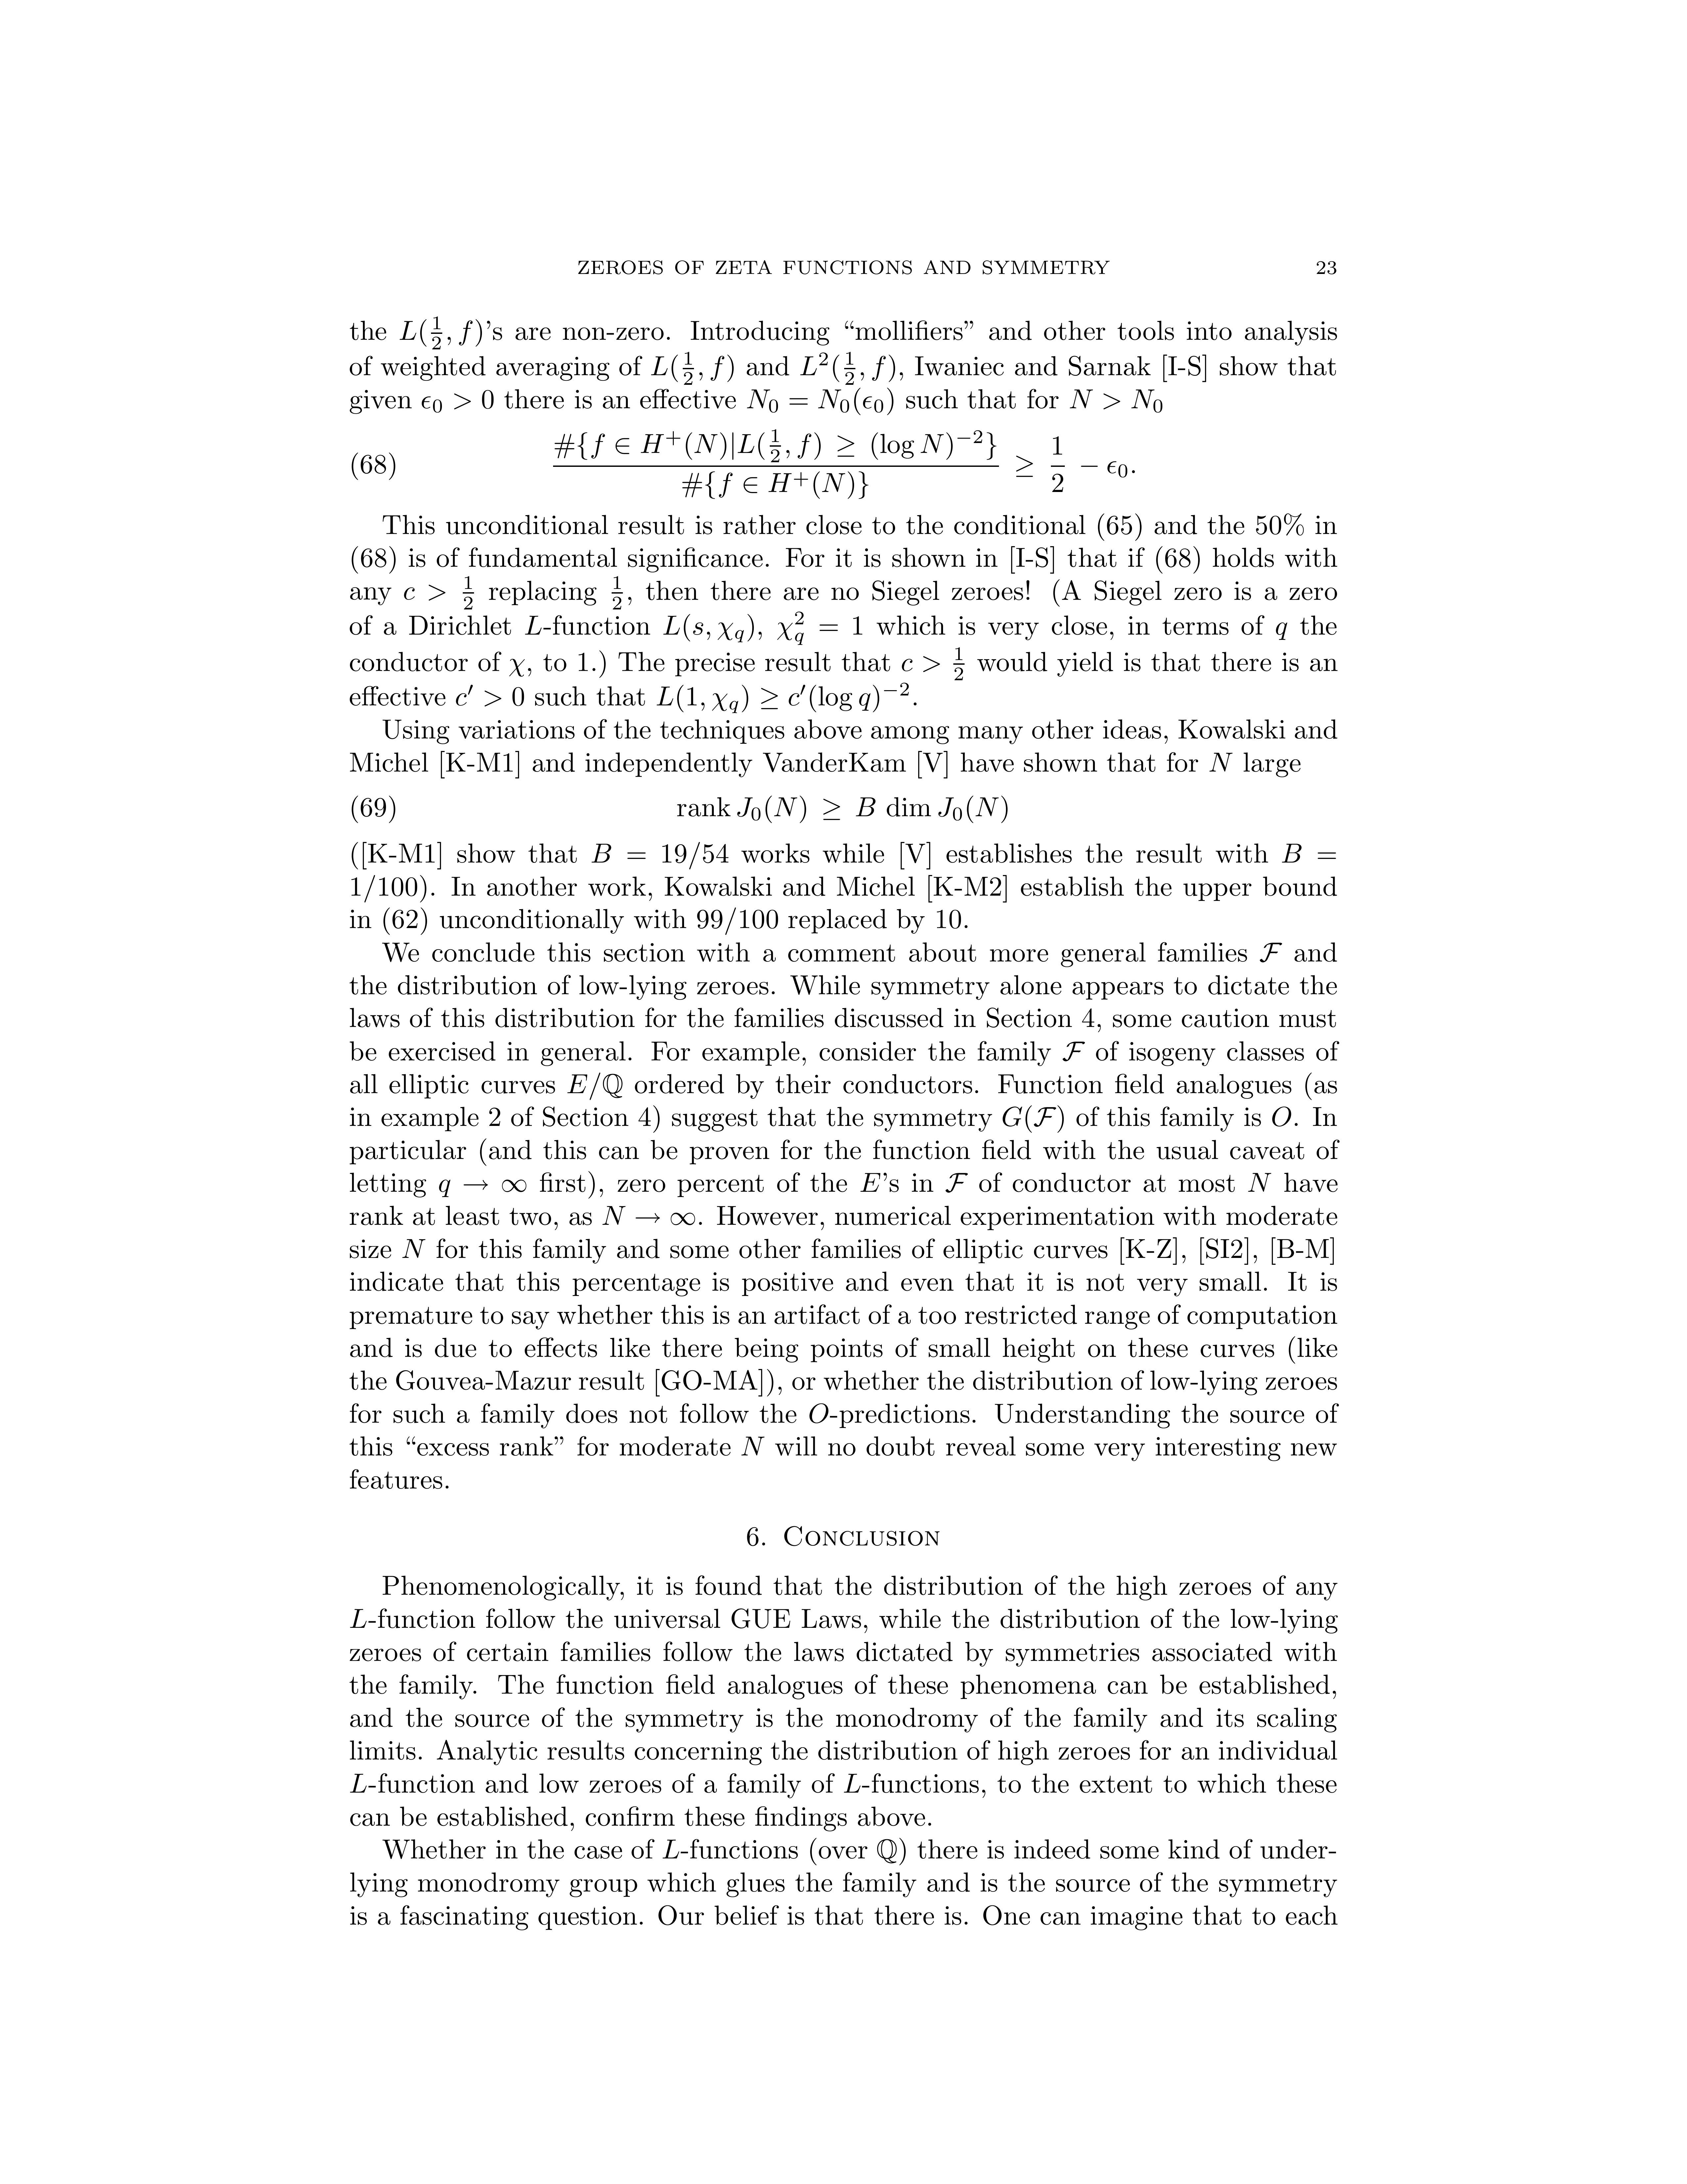maths: (553, 429, 1127, 498), (677, 796, 1007, 823), (657, 682, 909, 713), (746, 388, 893, 415), (801, 351, 895, 385), (663, 613, 762, 642), (399, 316, 482, 349), (650, 351, 734, 385), (778, 612, 861, 645), (404, 576, 473, 610), (1070, 390, 1162, 413), (902, 647, 964, 681), (602, 1205, 695, 1225), (422, 390, 493, 413), (1003, 1106, 1063, 1133), (439, 1179, 526, 1197), (567, 1073, 622, 1099), (455, 684, 523, 706), (592, 844, 645, 862), (1283, 844, 1336, 862), (741, 1436, 764, 1455), (877, 1840, 897, 1863), (1260, 943, 1281, 963), (1063, 1042, 1084, 1062), (946, 1174, 968, 1193), (1209, 753, 1232, 771), (1248, 1174, 1271, 1191), (402, 1239, 425, 1257), (611, 576, 622, 610), (1272, 1106, 1290, 1126), (861, 1174, 881, 1191), (810, 1404, 828, 1423), (349, 1610, 367, 1627), (349, 1774, 367, 1792), (844, 1774, 859, 1792), (663, 1840, 679, 1858), (509, 659, 525, 675), (1276, 622, 1287, 640)
